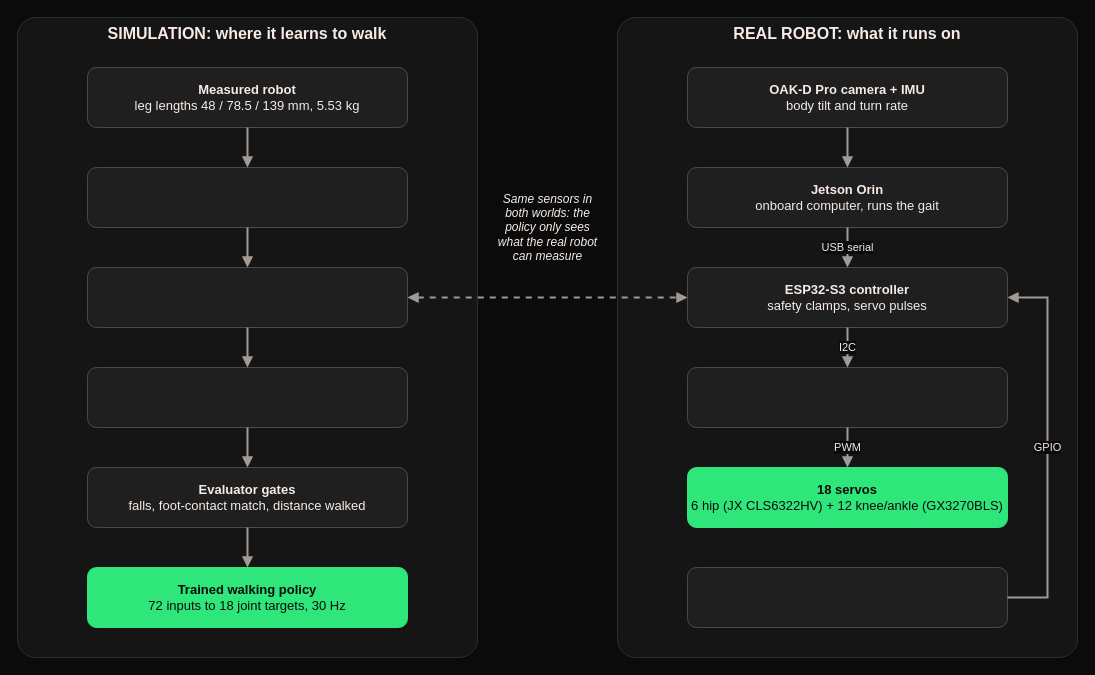
Some shapes in this 1095 by 675 pixel diagram are drawn without their labels. Here are the shapes that lost their labels. From the top down, the centre of each, then its label:
At point 247,197: "Digital twin (URDF / USD) 18 joints, servo limits, foot contacts".
At point 247,297: "Isaac Lab 2,048 robots in parallel, randomized friction and mass".
At point 247,397: "PPO training 24.6 M practice steps in about 13 minutes".
At point 847,397: "2x PCA9685 servo drivers I2C 0x40 left, 0x41 right".
At point 847,597: "6 foot switches which feet touch the ground".
